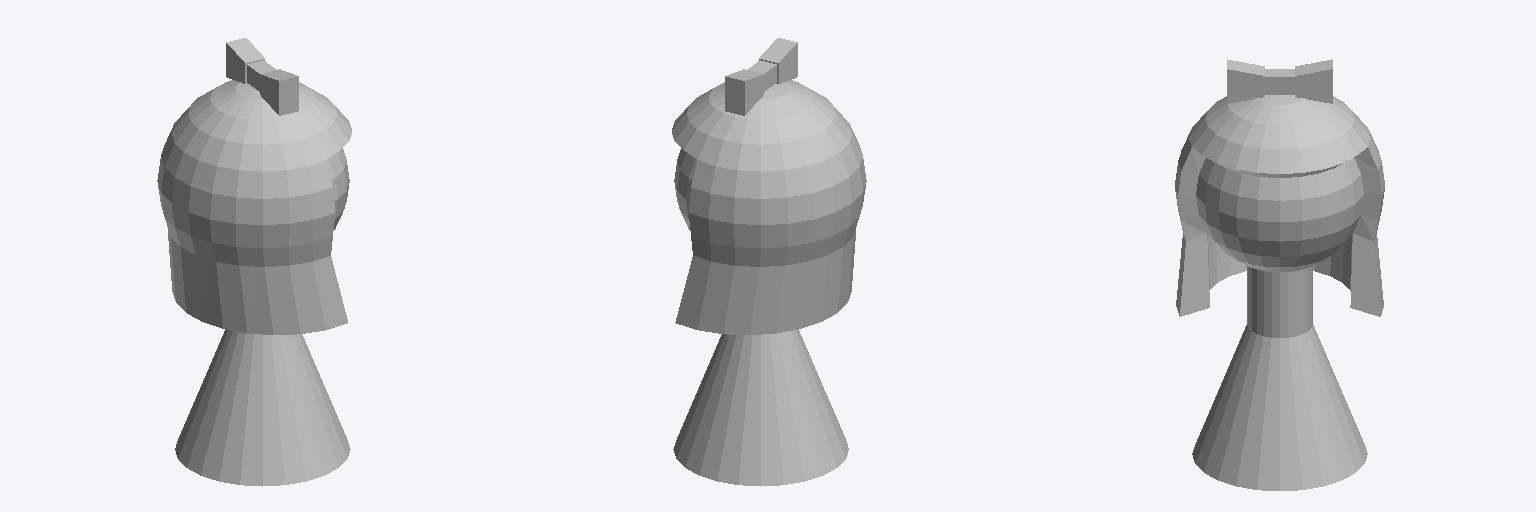
Rendered from daughter.obj.
3 renders of one model, left to right at view 1: azimuth 30°, elevation 25°; view 2: azimuth 150°, elevation 25°; view 3: azimuth 270°, elevation 25°, orthographic.
Visible parts, largest first — view 1: Mesh; view 2: Mesh; view 3: Mesh.
Boxes of the visible parts, <box> form: Mesh: <box>157,38,351,486</box>; Mesh: <box>672,38,866,486</box>; Mesh: <box>1175,59,1384,490</box>.
Bounding box in the file's own units: 0.5971 × 1.32 × 0.6449.